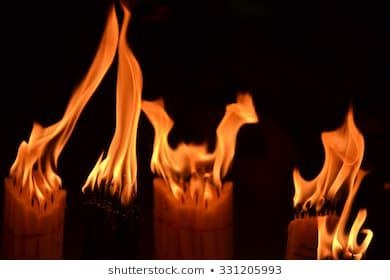fire: (3, 1, 258, 214), (288, 106, 380, 253)
